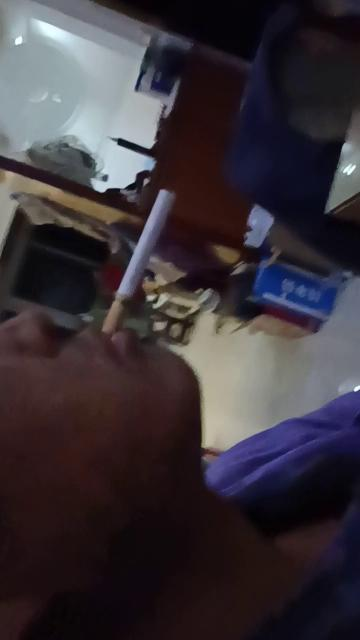Smoking: (102, 186, 178, 336)
